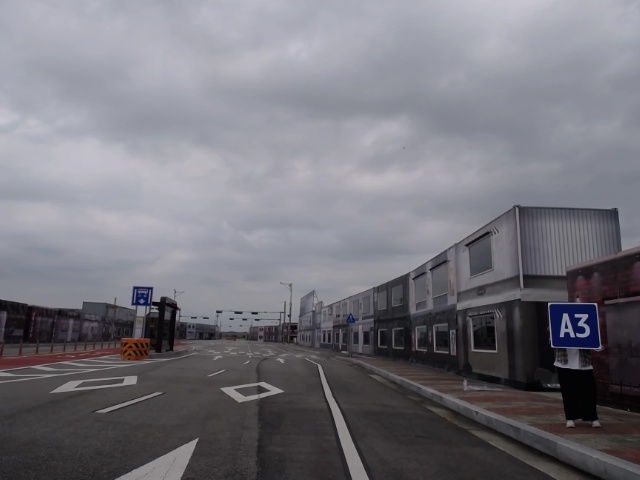delivery_a3: (548, 303, 601, 349)
